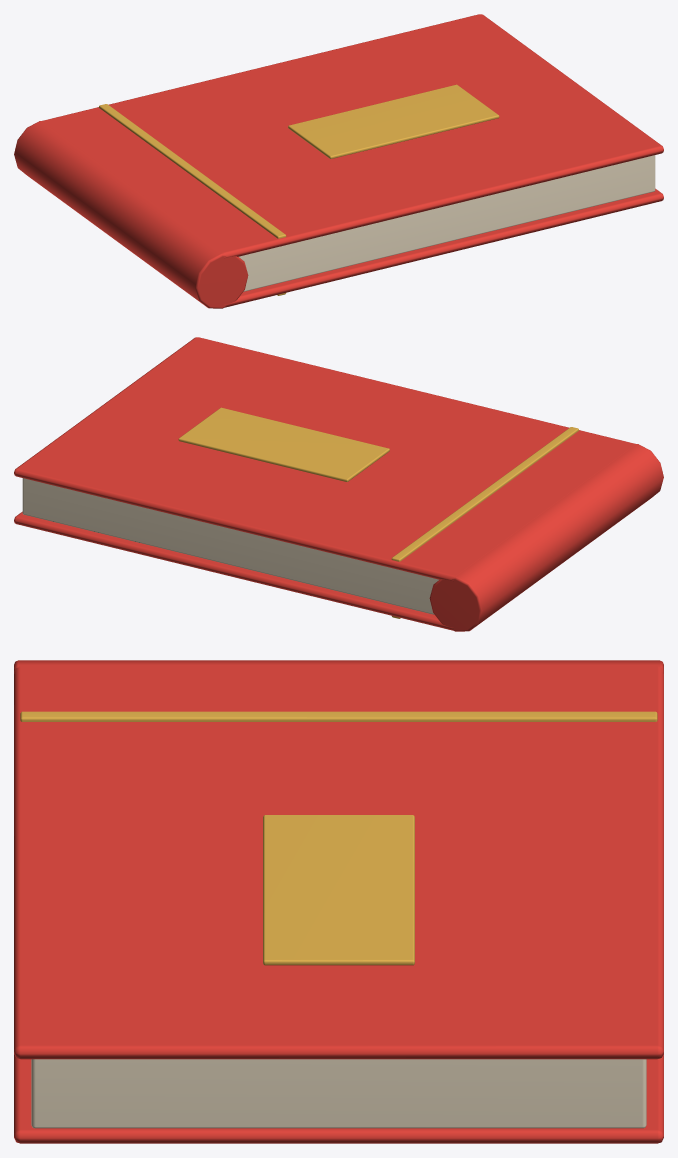
The model's file is toy_book_red.glb.
3 views of the same model, one above another, from view 1: azimuth 30°, elevation 25°; view 2: azimuth 150°, elevation 25°; view 3: azimuth 270°, elevation 25° (orthographic). The views are drawn at different scales.
Visible parts, largest first — view 1: toy_book_red; view 2: toy_book_red; view 3: toy_book_red.
Part boxes in pixels (box(x1,y1,x2,y2)): toy_book_red: box(14, 14, 663, 308); toy_book_red: box(14, 337, 663, 631); toy_book_red: box(14, 660, 663, 1143).
Bounding box in the file's own units: 4.43 × 0.545 × 3.
